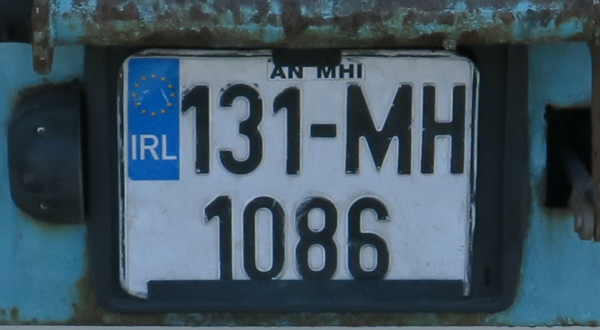license_plate: (119, 52, 480, 300)
